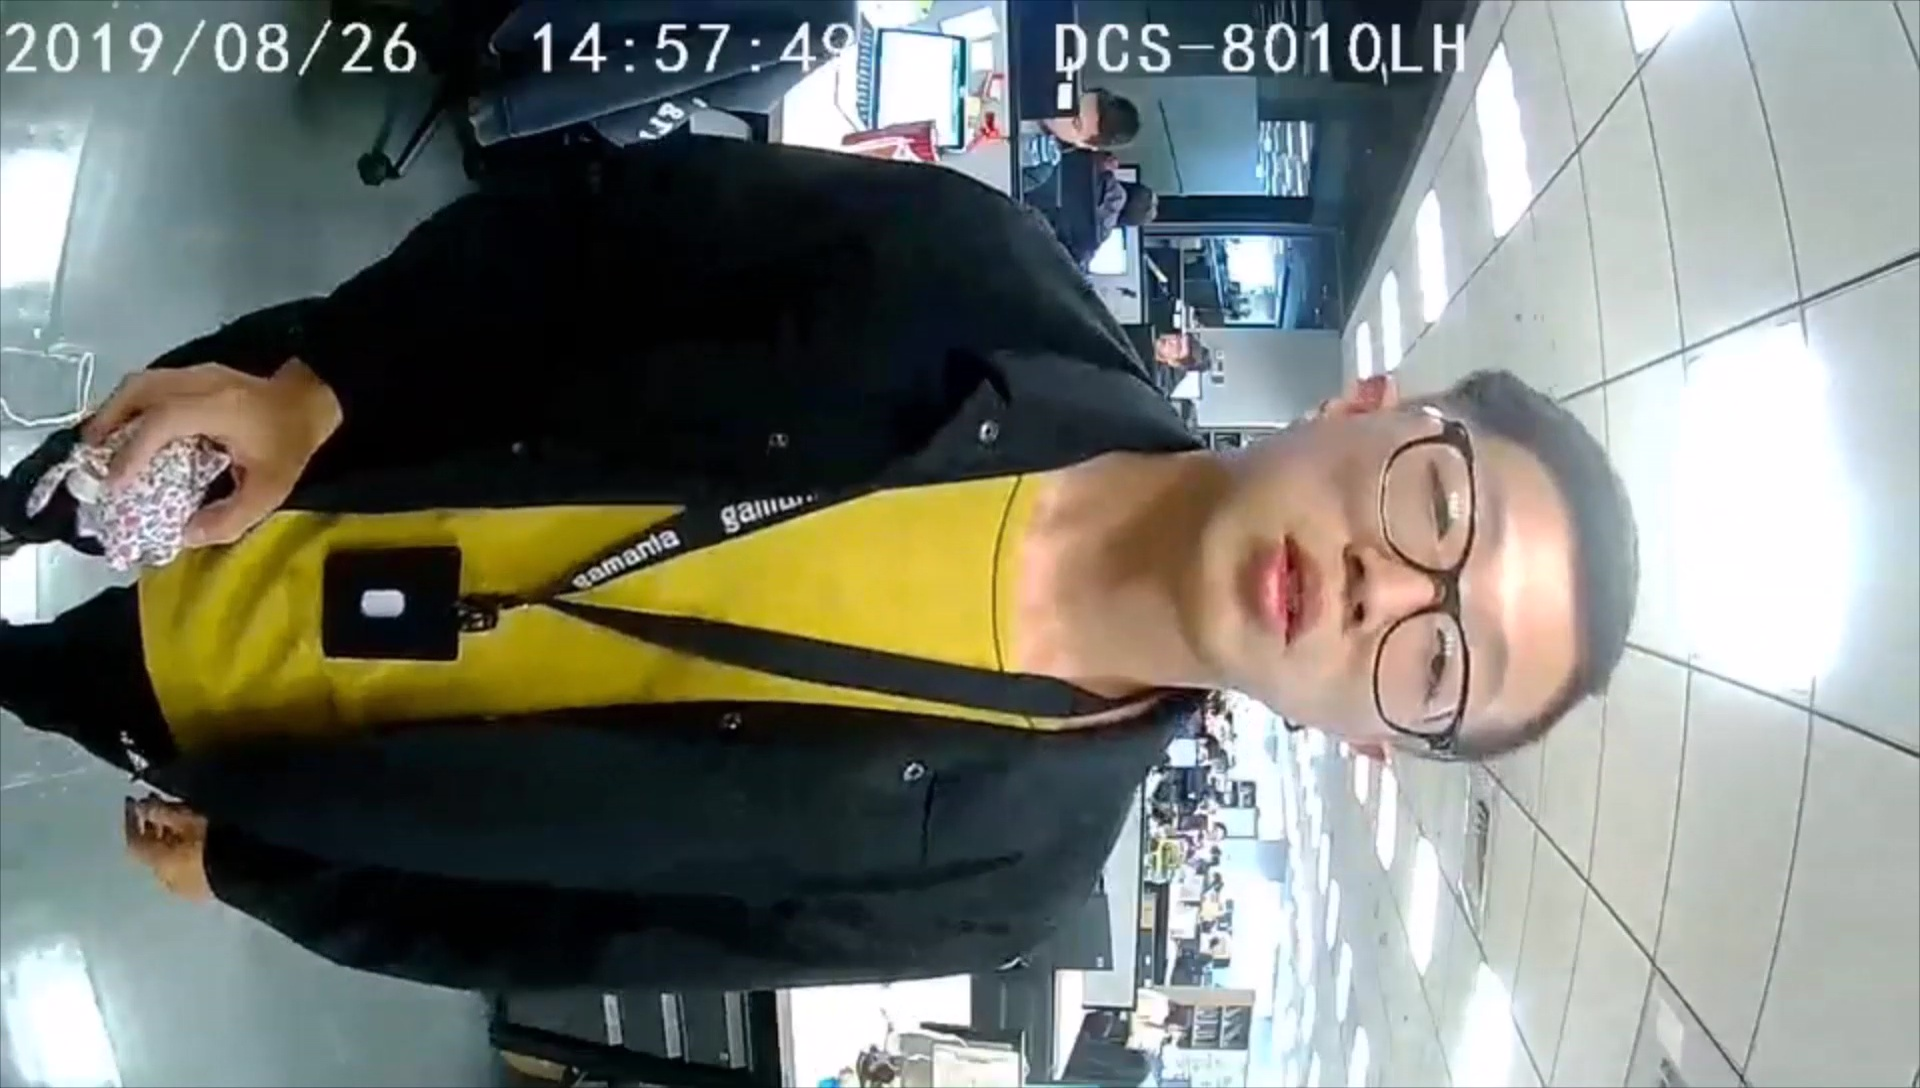pig: (26, 423, 236, 575)
